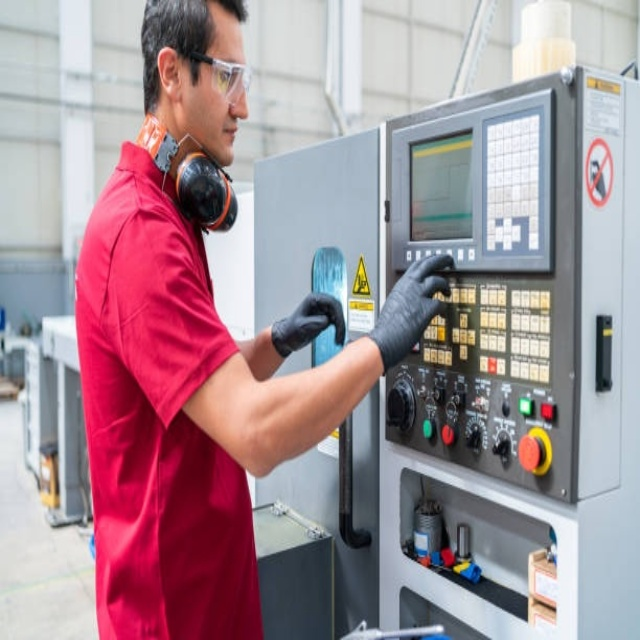Gafas: (182, 52, 254, 110)
Guantes: (370, 250, 455, 371), (271, 291, 345, 360)
Sin_mascara: (216, 118, 246, 165)
